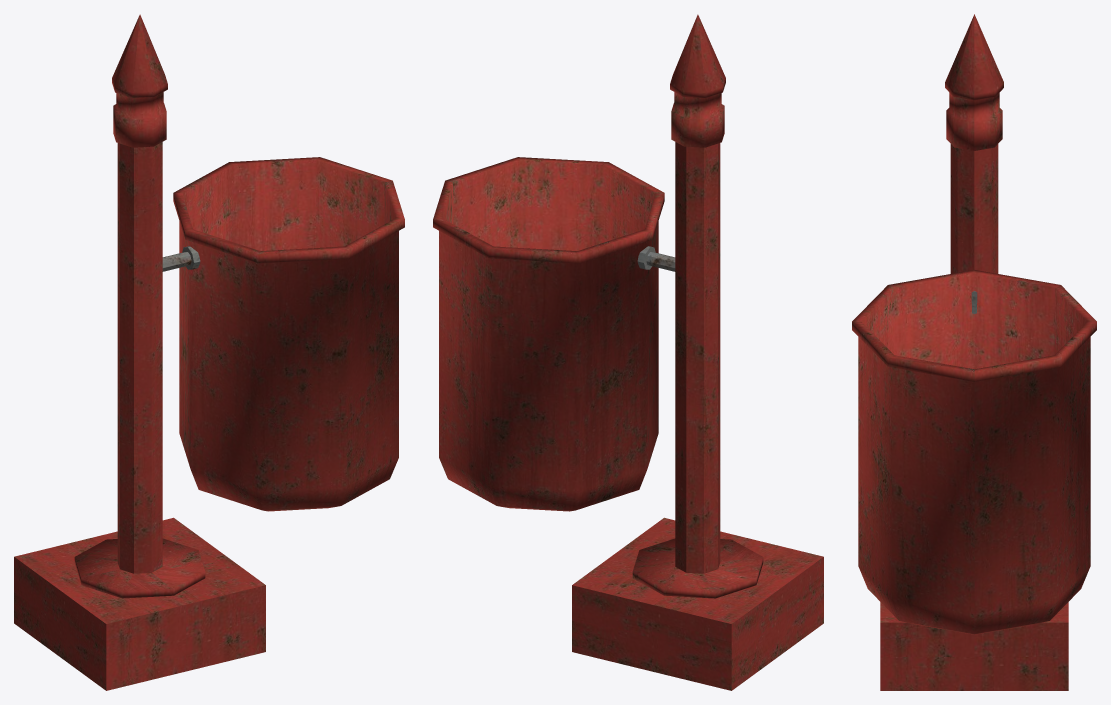
Rendered from urn_post_lod2_web.glb.
3 views of the same model, side by side, from view 1: azimuth 30°, elevation 25°; view 2: azimuth 150°, elevation 25°; view 3: azimuth 270°, elevation 25° (orthographic). The views are drawn at different scales.
Parts seen in each view (by area): view 1: Urn_BinMesh, UrnPost_Mesh; view 2: Urn_BinMesh, UrnPost_Mesh; view 3: Urn_BinMesh, UrnPost_Mesh.
Part boxes in pixels (x1,y1,x2,y2): Urn_BinMesh: (173, 157, 404, 511); UrnPost_Mesh: (14, 14, 265, 690); Urn_BinMesh: (433, 157, 664, 511); UrnPost_Mesh: (572, 14, 823, 690); Urn_BinMesh: (852, 270, 1096, 634); UrnPost_Mesh: (880, 14, 1068, 690).
Bounding box in the file's own units: 0.625 × 1.12 × 0.39.
Materials: 2 (2 with a texture image).
